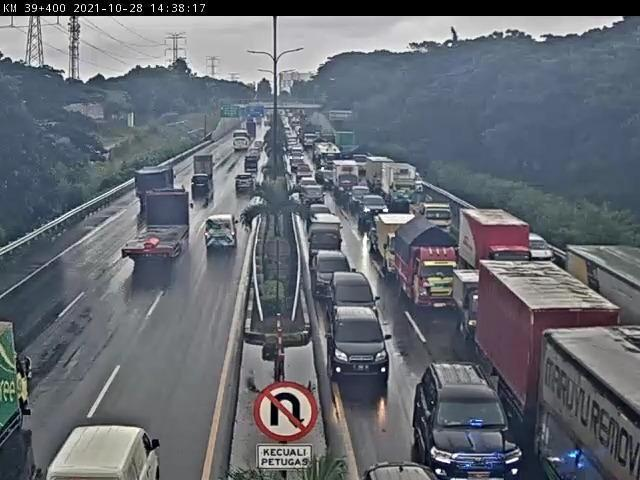Bus: (230, 129, 253, 156)
